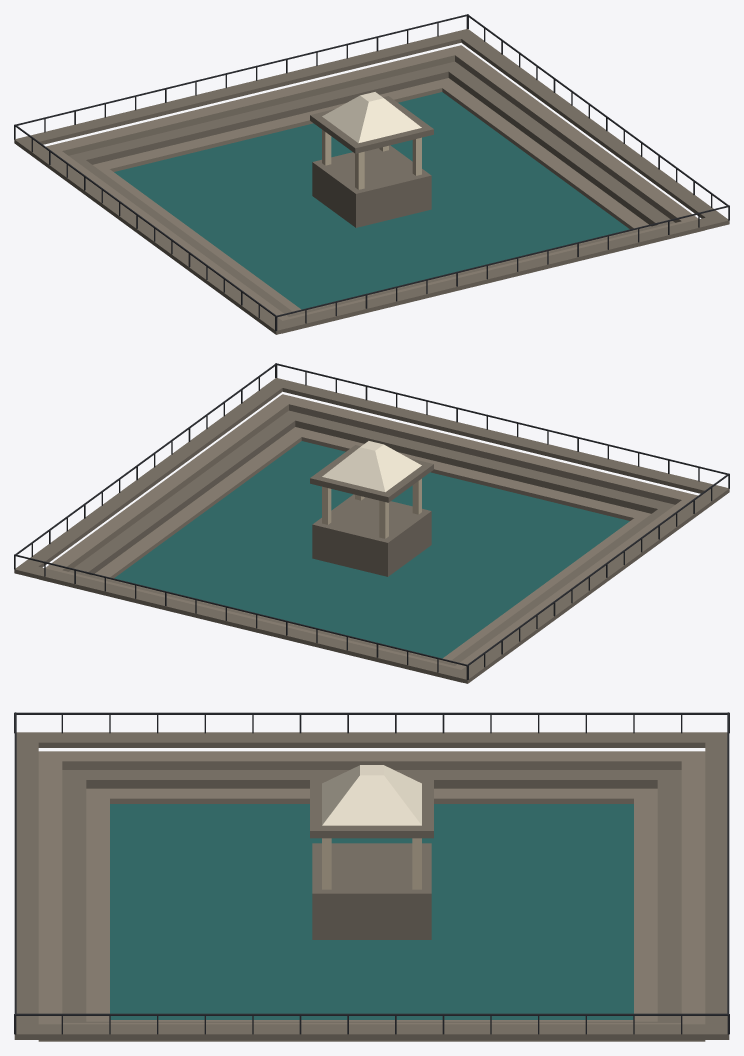
File: bld_ot_tank.glb
The picture shows the model from 3 angles, top to bottom: view 1: azimuth 30°, elevation 25°; view 2: azimuth 150°, elevation 25°; view 3: azimuth 270°, elevation 25°; orthographic projection. The views are drawn at different scales.
Visible parts, largest first — view 1: bld_ot_tank; view 2: bld_ot_tank; view 3: bld_ot_tank.
Boxes of the visible parts, x1,y1,x2,y2 form: bld_ot_tank: (14, 14, 729, 334); bld_ot_tank: (14, 363, 729, 683); bld_ot_tank: (14, 712, 729, 1041).
Size of what is drawn, in the model's own units: 30.06 by 8.15 by 30.06.
